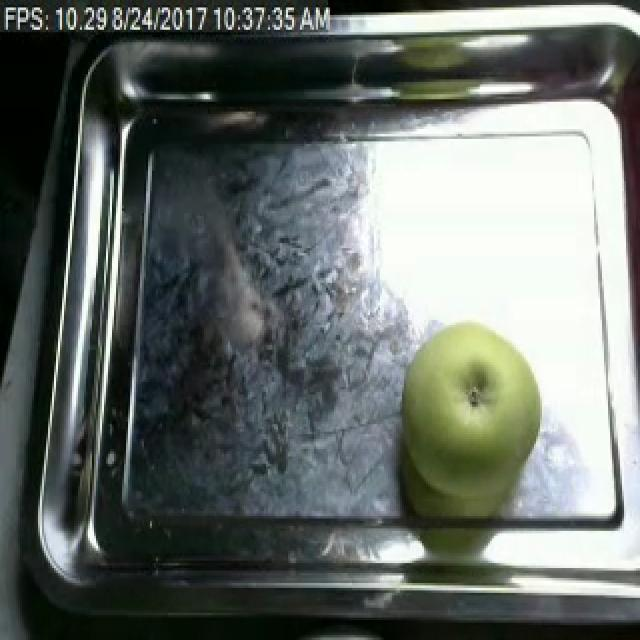50-_ripeness: (401, 320, 542, 496)
